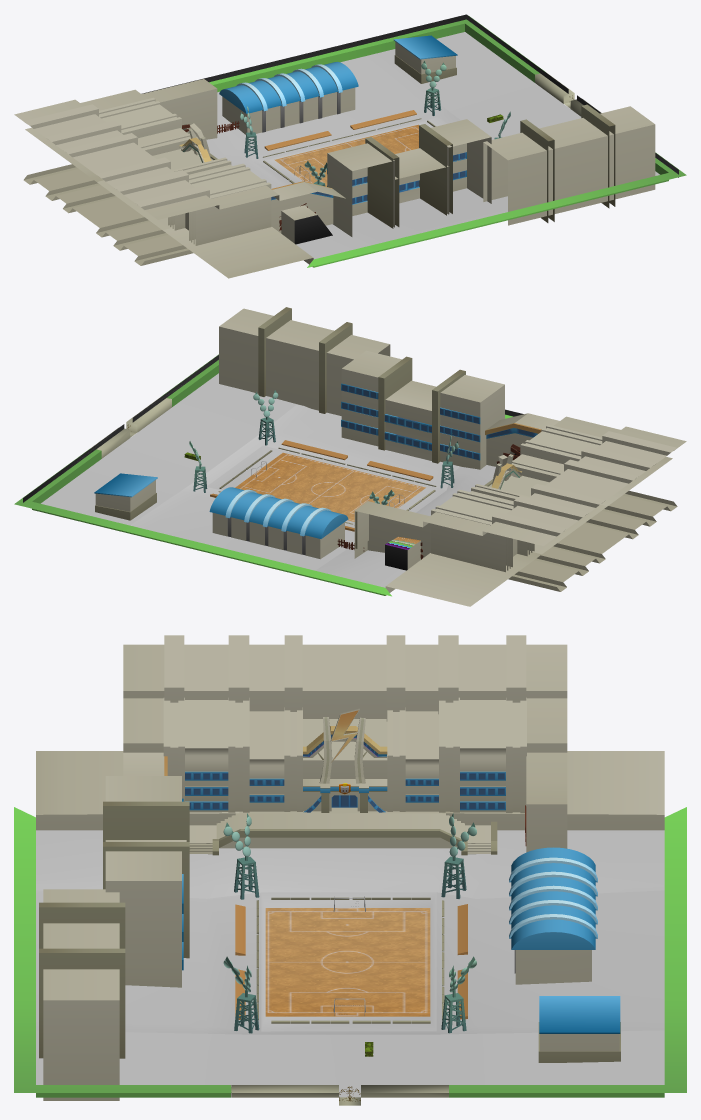
File: Instituto 1.fbx
3 views of the same model, one above another, from view 1: azimuth 30°, elevation 25°; view 2: azimuth 150°, elevation 25°; view 3: azimuth 270°, elevation 25° (orthographic). The views are drawn at different scales.
Visible parts, largest first — view 1: Cube.014, Cube.033, Plane.013, Cube.017, Plane.012, Plane.010, Cube.028, Plane.009, Cube.032, Cube.036, Cube.010, Plane.014 (+20 smaller); view 2: Cube.014, Plane.012, Plane.013, Cube.033, Cube.017, Plane, Plane.009, Plane.010, Cube.036, Cube.028, Cube.032, Cube.030 (+19 smaller); view 3: Plane.013, Plane.012, Cube.014, Plane.014, Plane, Plane.010, Plane.009, Cube.017, Cube.033, Cube.028, Cube.030, Cube.032 (+26 smaller).
Boxes of the visible parts, box(x1,y1,x2,y2) form: Cube.014: box(23, 104, 209, 265); Cube.033: box(483, 106, 655, 225); Plane.013: box(217, 53, 507, 241); Cube.017: box(14, 79, 345, 244); Plane.012: box(376, 32, 659, 175); Plane.010: box(209, 16, 686, 267); Cube.028: box(365, 104, 615, 228); Plane.009: box(25, 127, 313, 278); Cube.032: box(219, 61, 358, 113); Cube.036: box(327, 143, 394, 236); Cube.010: box(189, 179, 271, 245); Plane.014: box(206, 121, 383, 259); Cube.014: box(492, 431, 677, 591); Plane.012: box(41, 373, 296, 525); Plane.013: box(130, 404, 460, 570); Cube.033: box(219, 308, 390, 415); Cube.017: box(354, 413, 686, 570); Plane: box(235, 452, 425, 521); Plane.009: box(385, 457, 672, 606); Plane.010: box(14, 354, 512, 596); Cube.036: box(440, 375, 504, 469); Cube.028: box(258, 307, 465, 463); Cube.032: box(209, 487, 348, 538); Cube.030: box(341, 350, 401, 446); Plane.013: box(36, 890, 664, 1034); Plane.012: box(36, 1030, 664, 1097); Cube.014: box(164, 635, 526, 721); Plane.014: box(36, 830, 664, 898); Plane: box(265, 908, 430, 1016); Plane.010: box(14, 807, 686, 1097); Plane.009: box(36, 751, 664, 830); Cube.017: box(123, 644, 567, 852); Cube.033: box(43, 889, 119, 1100); Cube.028: box(39, 801, 189, 1058); Cube.030: box(105, 851, 183, 987); Cube.032: box(509, 847, 597, 949).
Size of the model in its own units: 16500 by 2707 by 12534.
